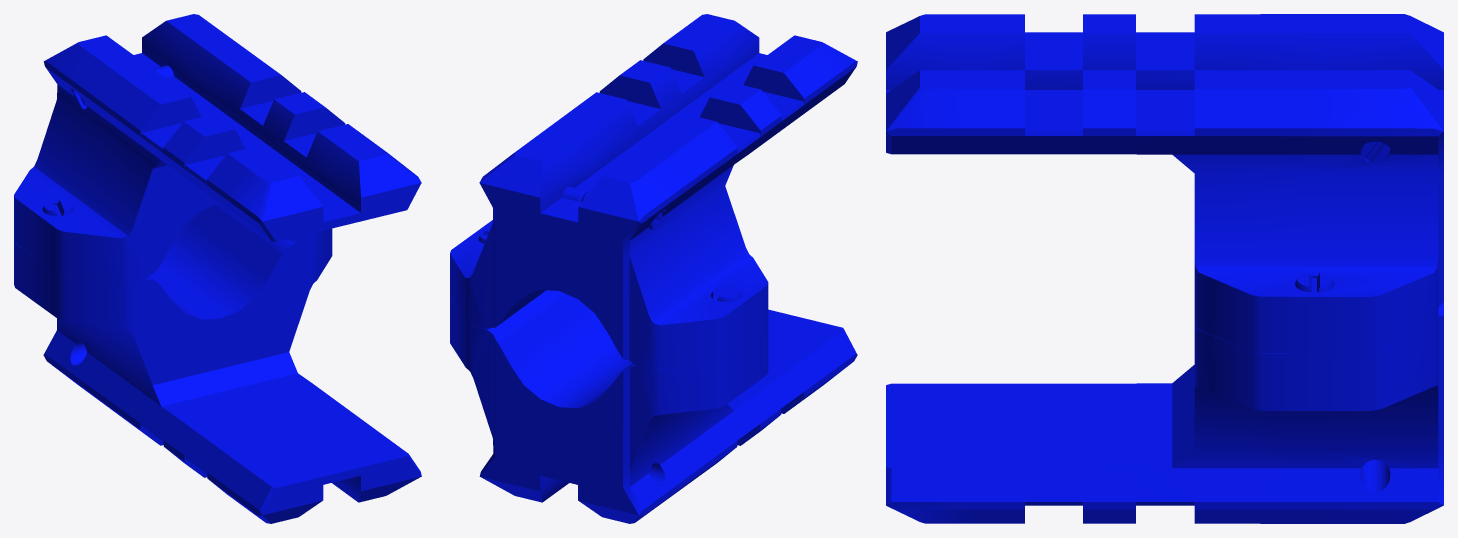
Rendered from DFDoubleS.FBX.
3 views of the same model, side by side, from view 1: azimuth 30°, elevation 25°; view 2: azimuth 150°, elevation 25°; view 3: azimuth 270°, elevation 25° (orthographic). The views are drawn at different scales.
Parts seen in each view (by area): view 1: DF_BaseBodyTop, DF_BaseBodyDown1; view 2: DF_BaseBodyTop, DF_BaseBodyDown1; view 3: DF_BaseBodyTop, DF_BaseBodyDown1.
Part boxes in pixels (x1,y1,x2,y2): DF_BaseBodyTop: [14, 14, 421, 282]; DF_BaseBodyDown1: [14, 203, 421, 523]; DF_BaseBodyTop: [450, 14, 857, 369]; DF_BaseBodyDown1: [450, 290, 857, 523]; DF_BaseBodyTop: [886, 14, 1443, 353]; DF_BaseBodyDown1: [886, 302, 1443, 523].
Bounding box in the file's own units: 3.61 × 4.3 × 5.
